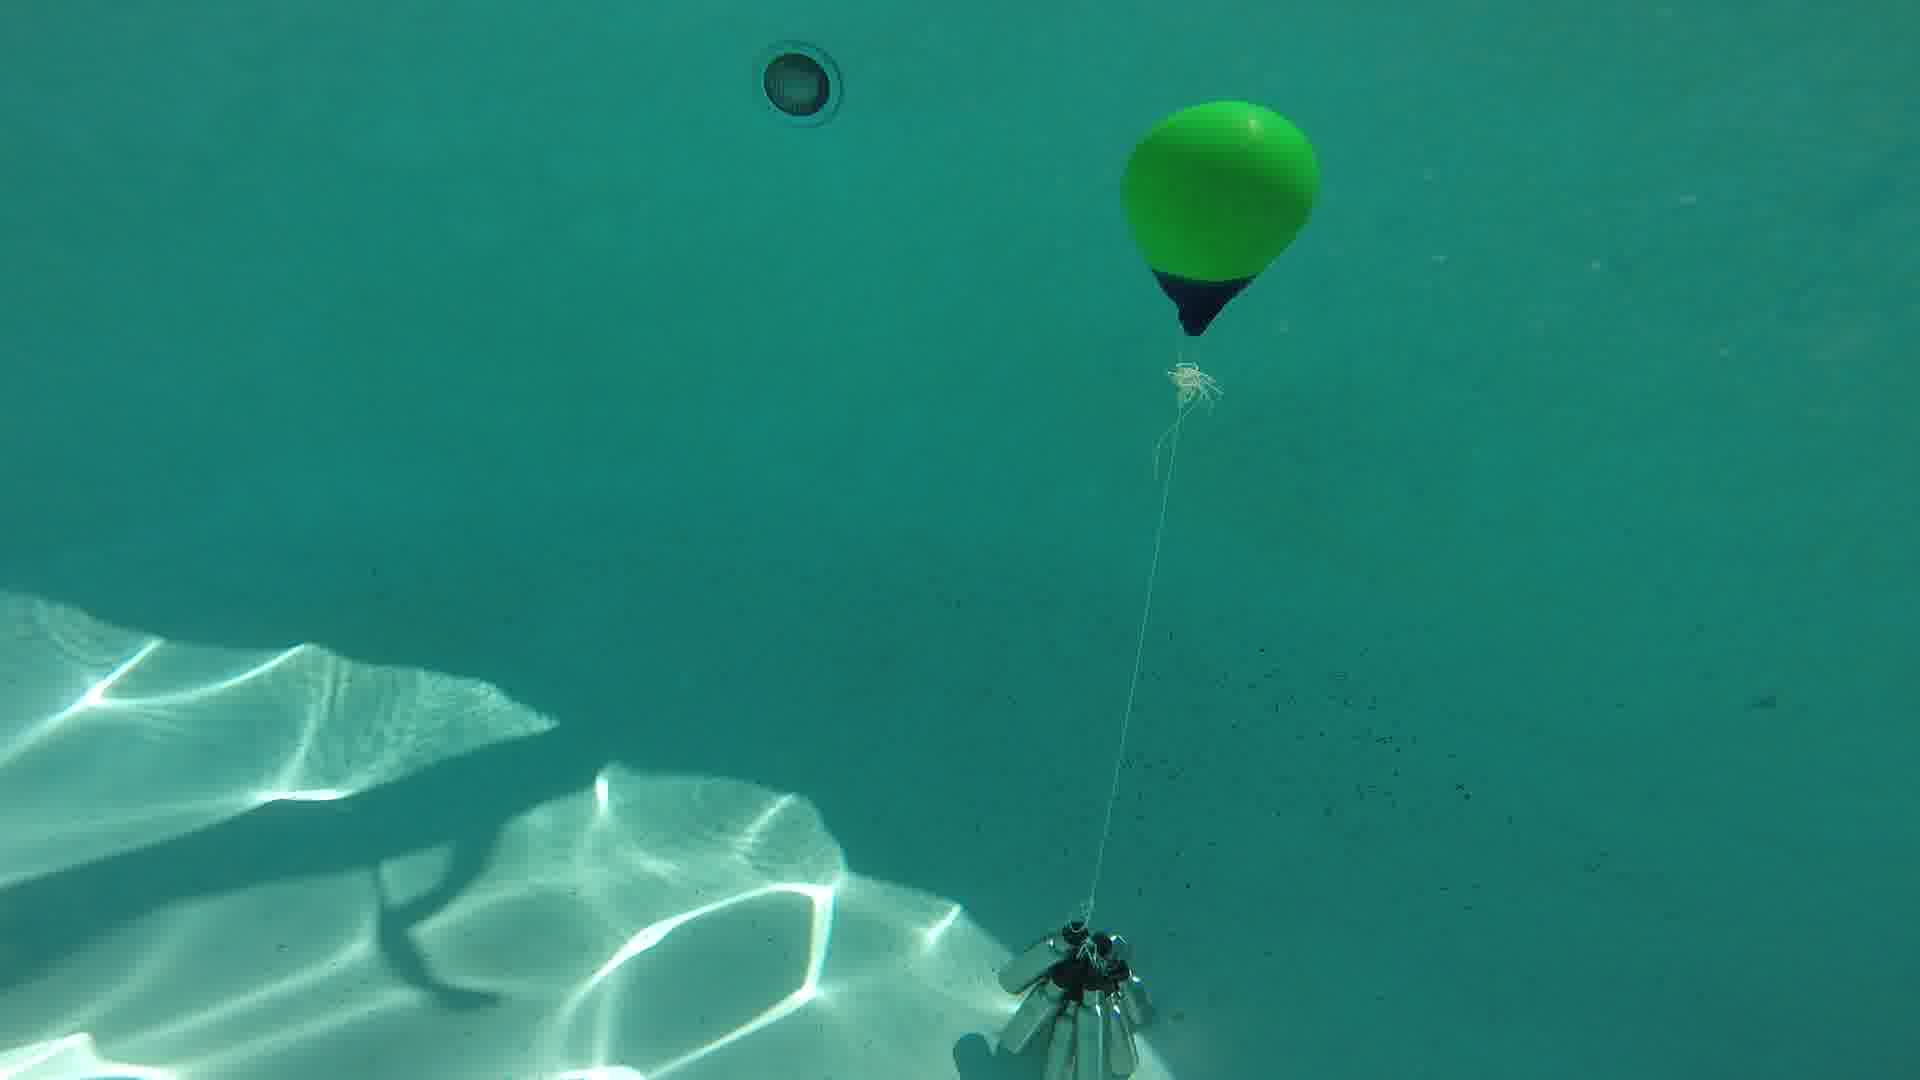yellow_buoy: (1120, 96, 1321, 334)
